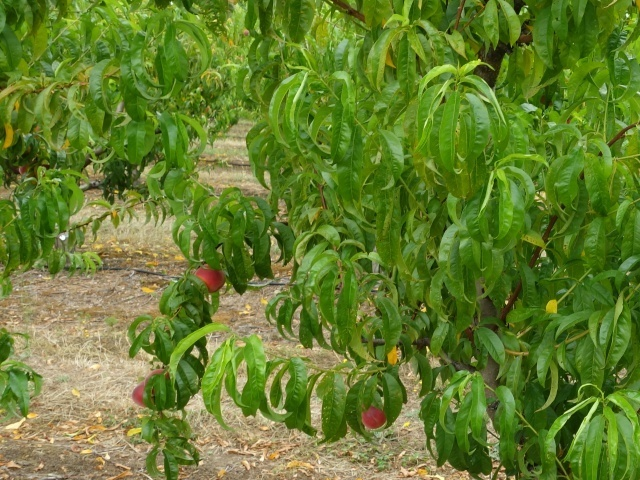peach: (190, 260, 227, 295), (358, 401, 389, 435), (142, 366, 173, 393), (129, 382, 155, 410)
